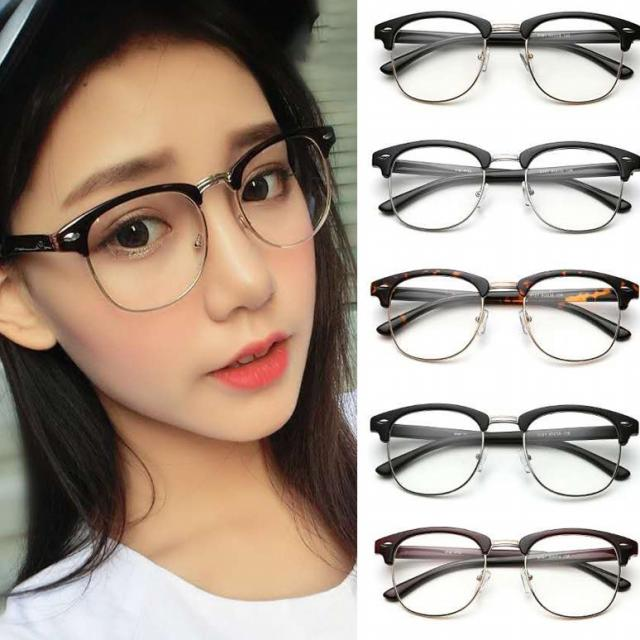Glasses: (0, 116, 342, 316)
